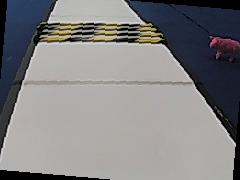Tracktor: (209, 36, 238, 63)
bump: (31, 15, 166, 49)
